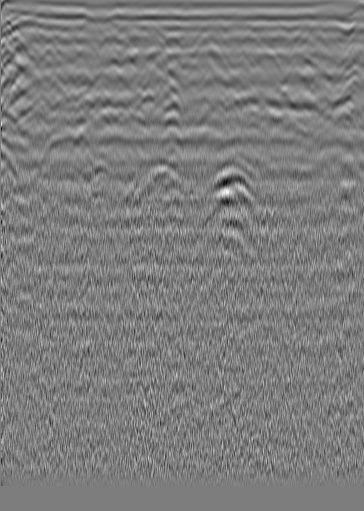가스: (106, 32, 126, 52)
상수: (308, 28, 328, 48)
오수: (25, 26, 45, 46)
우수: (211, 156, 255, 190)
